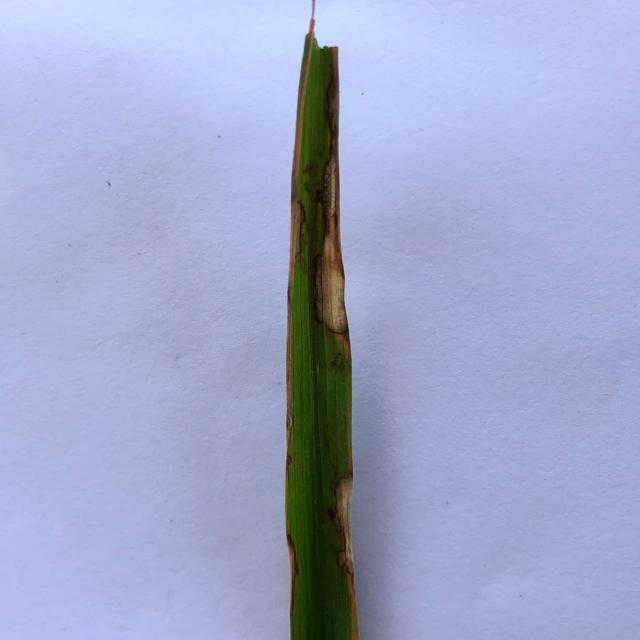leaf blight: (310, 79, 350, 336), (284, 33, 316, 286), (331, 473, 363, 640), (279, 534, 301, 600)
